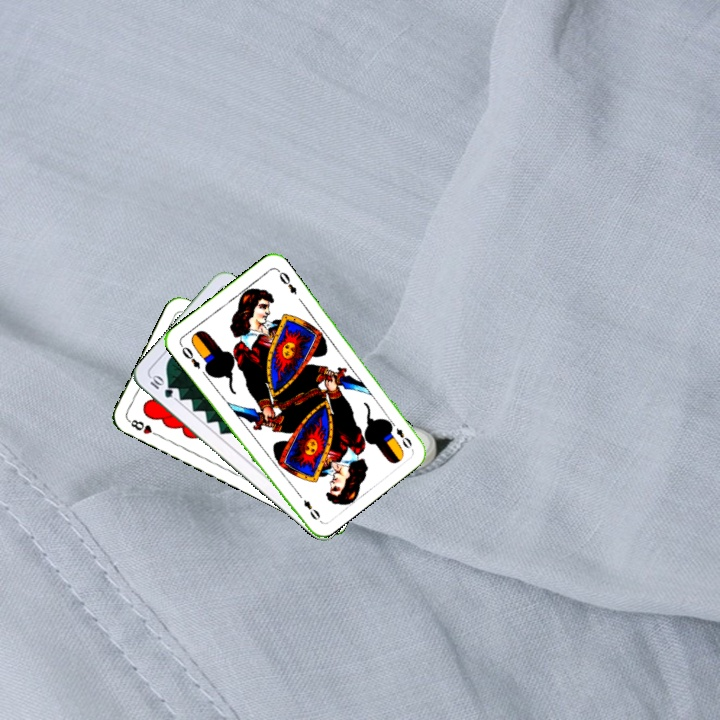EO: (385, 416, 415, 451), (176, 340, 203, 371)
G10: (146, 371, 176, 401)
H8: (124, 415, 163, 439)
